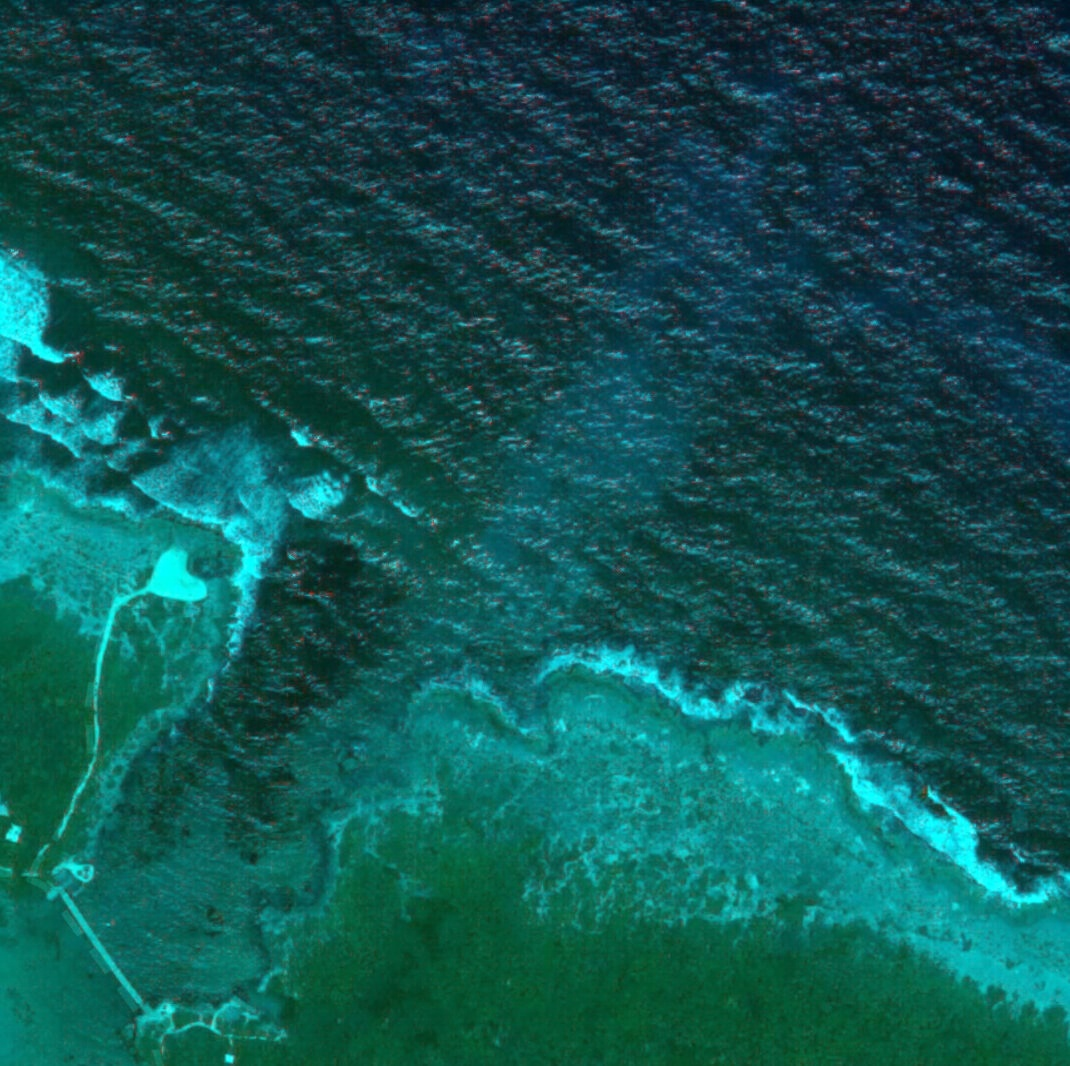rip_current: (463, 173, 778, 571)
